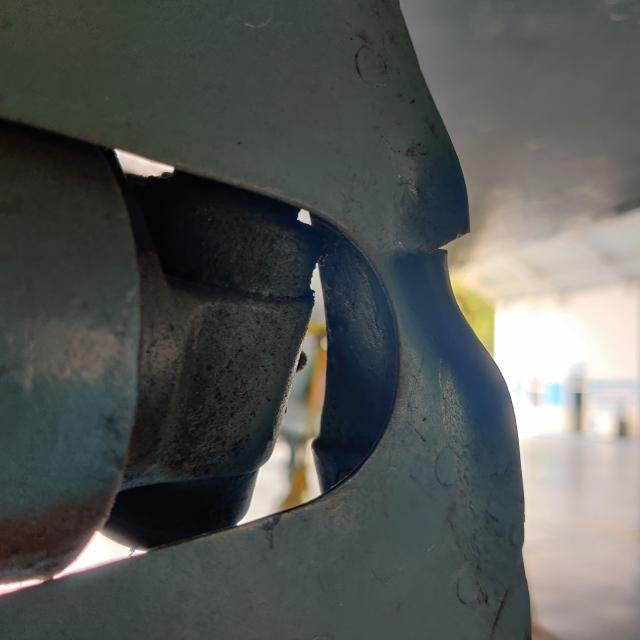crack: (405, 218, 495, 280)
